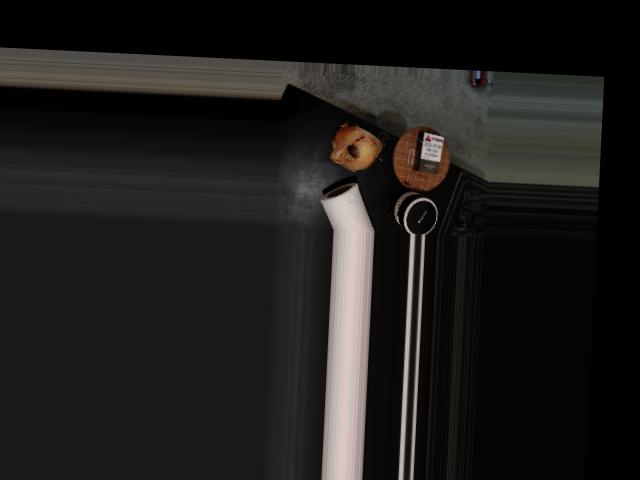onion: (327, 119, 385, 174)
